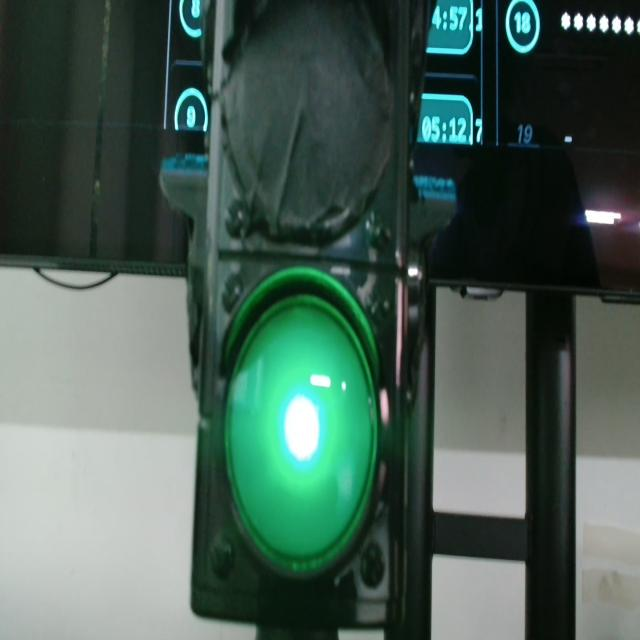green_light: (226, 295, 377, 572), (285, 395, 319, 461)
